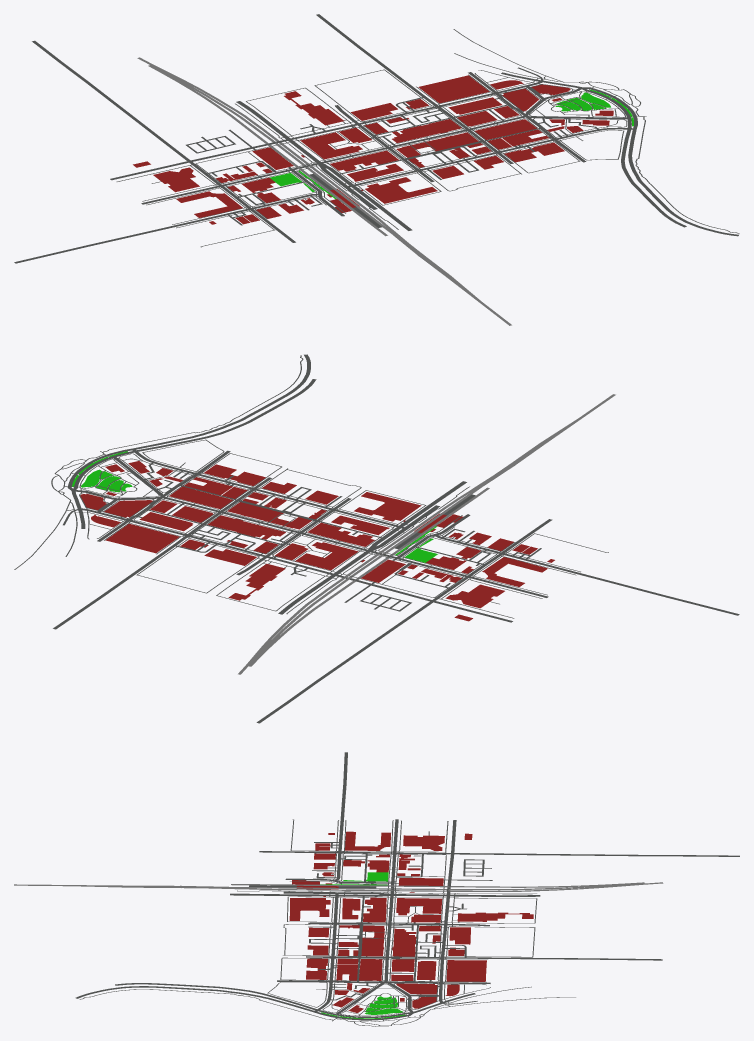
The model's file is TESTBED OSM 2D FILE.fbx.
3 renders of one model, top to bottom at view 1: azimuth 30°, elevation 25°; view 2: azimuth 150°, elevation 25°; view 3: azimuth 270°, elevation 25°, orthographic. The views are drawn at different scales.
Parts seen in each view (by area): view 1: map_9.osm_buildings, map_9.osm_paths_footway, map_9.osm_roads_residential, map_9.osm_railways, map_9.osm_roads_tertiary, map_9.osm_roads_service, map_9.osm_vegetation, map_9.osm_roads_primary, map_9.osm_paths_cycleway; view 2: map_9.osm_buildings, map_9.osm_paths_footway, map_9.osm_roads_residential, map_9.osm_railways, map_9.osm_roads_tertiary, map_9.osm_roads_service, map_9.osm_vegetation, map_9.osm_roads_primary, map_9.osm_paths_cycleway; view 3: map_9.osm_buildings, map_9.osm_paths_footway, map_9.osm_roads_residential, map_9.osm_railways, map_9.osm_roads_service, map_9.osm_roads_tertiary, map_9.osm_roads_primary, map_9.osm_vegetation, map_9.osm_paths_cycleway.
Boxes of the visible parts, box(x1,y1,x2,y2) form: map_9.osm_buildings: box(133, 75, 613, 224); map_9.osm_paths_footway: box(142, 29, 646, 247); map_9.osm_roads_residential: box(14, 40, 738, 263); map_9.osm_railways: box(137, 57, 511, 325); map_9.osm_roads_tertiary: box(110, 14, 543, 182); map_9.osm_roads_service: box(186, 67, 599, 225); map_9.osm_vegetation: box(270, 89, 633, 199); map_9.osm_roads_primary: box(236, 101, 412, 230); map_9.osm_paths_cycleway: box(116, 53, 739, 233); map_9.osm_buildings: box(80, 461, 554, 621); map_9.osm_paths_footway: box(14, 439, 608, 614); map_9.osm_roads_residential: box(67, 354, 739, 723); map_9.osm_railways: box(238, 394, 615, 674); map_9.osm_roads_tertiary: box(53, 477, 512, 629); map_9.osm_roads_service: box(63, 462, 541, 611); map_9.osm_vegetation: box(72, 451, 437, 562); map_9.osm_roads_primary: box(278, 481, 466, 614); map_9.osm_paths_cycleway: box(51, 355, 514, 618); map_9.osm_buildings: box(289, 831, 533, 1012); map_9.osm_paths_footway: box(237, 819, 575, 1026); map_9.osm_roads_residential: box(75, 752, 739, 1020); map_9.osm_railways: box(14, 882, 663, 891); map_9.osm_roads_service: box(308, 842, 492, 1004); map_9.osm_roads_tertiary: box(306, 820, 662, 1003); map_9.osm_roads_primary: box(230, 891, 540, 896); map_9.osm_vegetation: box(320, 872, 405, 1018); map_9.osm_paths_cycleway: box(79, 821, 531, 1026).
Bounding box in the file's own units: 133952 × 30.01 × 149840.
